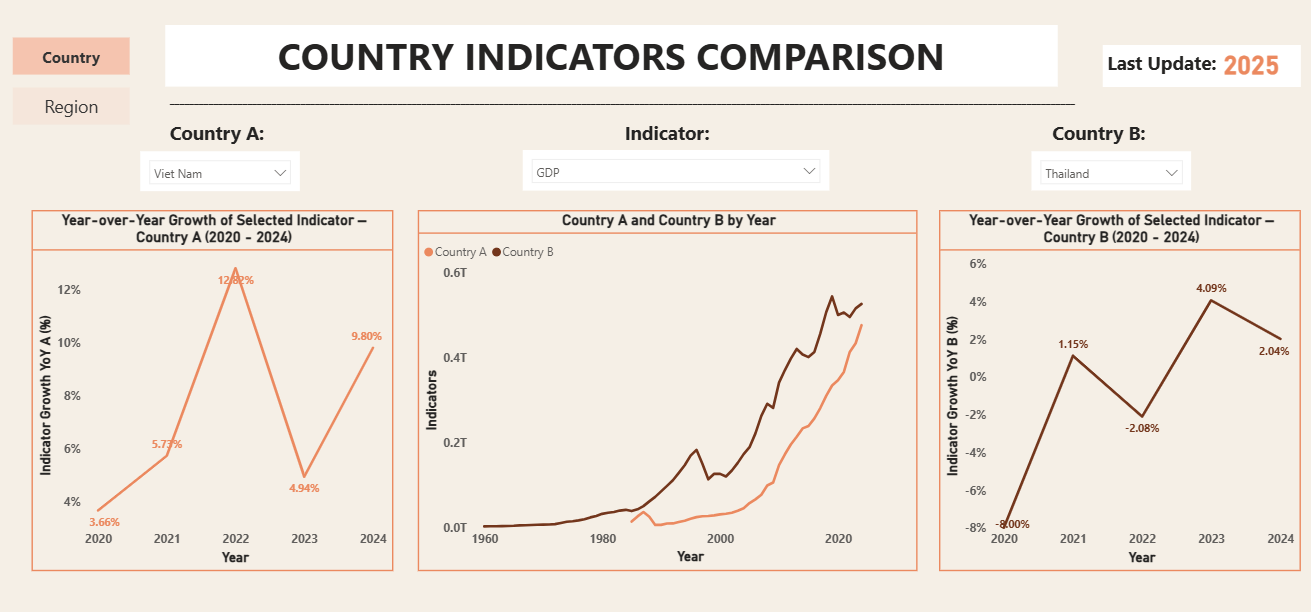

Layout of this report page (visuals, bound fields, positions):
{"tool":"powerbi","page":{"name":"Country Indicators Comparison","canvas":[1500,700],"ordinal":1},"visuals":[{"type":"textbox","box":[190,28.8,1020,70],"z":0},{"type":"textbox","box":[190,131.1,142.2,40],"z":1000},{"type":"textbox","box":[1261.1,51.1,226.7,47.8],"z":2000},{"type":"card","fields":{"Values":["#Measure Manager.Last Update"]},"box":[1362.2,51.1,137.8,42.2],"z":3000},{"type":"textbox","box":[1198.8,131.2,145,40],"z":4000},{"type":"textbox","box":[710,131.2,128.8,40],"z":5000},{"type":"slicer","fields":{"Values":["dim_country_A.country"]},"box":[161.1,173.3,182.2,45.6],"z":6000},{"type":"slicer","fields":{"Values":["dim_country_B.country"]},"box":[1180,172.5,182.5,45],"z":7000},{"type":"slicer","fields":{"Values":["Indicator.indicator_name"]},"box":[598.8,171.2,350,46.2],"z":8000},{"type":"lineChart","fields":{"Category":["global_indicators.Year"],"Y":["#Measure Manager.Indicator Value A","#Measure Manager.Indicator Value B"]},"box":[478.8,240,571.2,412.5],"z":9000},{"type":"lineChart","title":"Year-over-Year Growth of Selected Indicator – Country A (2020 - 2024)","fields":{"Category":["global_indicators.Year"],"Y":["#Measure Manager.Indicator Growth YoY A (%)"]},"box":[37.5,240,413.8,412.5],"z":10000},{"type":"lineChart","title":"Year-over-Year Growth of Selected Indicator – Country B (2020 - 2024)","fields":{"Category":["global_indicators.Year"],"Y":["#Measure Manager.Indicator Growth YoY B (%)"]},"box":[1073.8,240,413.8,412.5],"z":11000},{"type":"textbox","box":[178.8,98.8,1067.5,43.8],"z":12000},{"type":"shape","title":"Region","box":[15,100,133.8,42.5],"z":13000},{"type":"shape","box":[15,42.5,133.8,42.5],"z":14000}]}

Visuals, with their boxes in screenshot pixels (x1, y1, x2, y2), scaled from the page's 1500x700 canvas onto the 1311x612 screenshot:
textbox: {"x1": 166, "y1": 25, "x2": 1058, "y2": 86}
textbox: {"x1": 166, "y1": 115, "x2": 290, "y2": 150}
textbox: {"x1": 1102, "y1": 45, "x2": 1300, "y2": 86}
card - #Measure Manager.Last Update: {"x1": 1191, "y1": 45, "x2": 1310, "y2": 82}
textbox: {"x1": 1048, "y1": 115, "x2": 1174, "y2": 150}
textbox: {"x1": 621, "y1": 115, "x2": 733, "y2": 150}
slicer - dim_country_A.country: {"x1": 141, "y1": 152, "x2": 300, "y2": 191}
slicer - dim_country_B.country: {"x1": 1031, "y1": 151, "x2": 1191, "y2": 190}
slicer - Indicator.indicator_name: {"x1": 523, "y1": 150, "x2": 829, "y2": 190}
lineChart - global_indicators.Year x #Measure Manager.Indicator Value A: {"x1": 418, "y1": 210, "x2": 918, "y2": 570}
"Year-over-Year Growth of Selected Indicator – Country A (2020 - 2024)" lineChart: {"x1": 33, "y1": 210, "x2": 394, "y2": 570}
"Year-over-Year Growth of Selected Indicator – Country B (2020 - 2024)" lineChart: {"x1": 939, "y1": 210, "x2": 1300, "y2": 570}
textbox: {"x1": 156, "y1": 86, "x2": 1089, "y2": 125}
"Region" shape: {"x1": 13, "y1": 87, "x2": 130, "y2": 125}
shape: {"x1": 13, "y1": 37, "x2": 130, "y2": 74}
